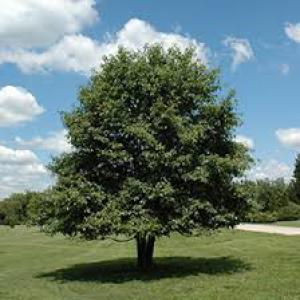Tree: (46, 38, 253, 266)
